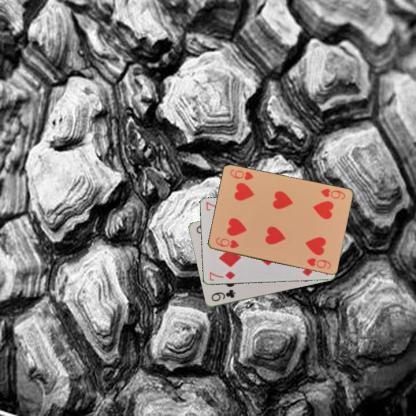6h: (318, 186, 347, 201), (213, 235, 240, 250)
7d: (207, 268, 236, 283)
9c: (209, 287, 236, 303)
